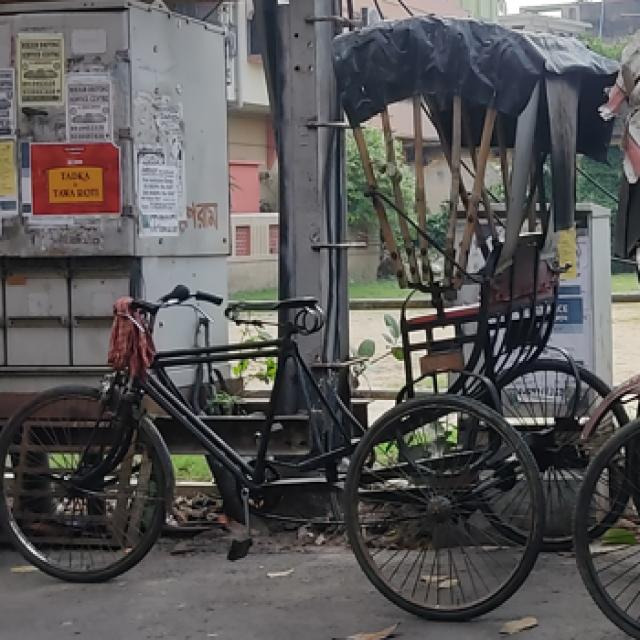rickshaw: (2, 15, 633, 625)
